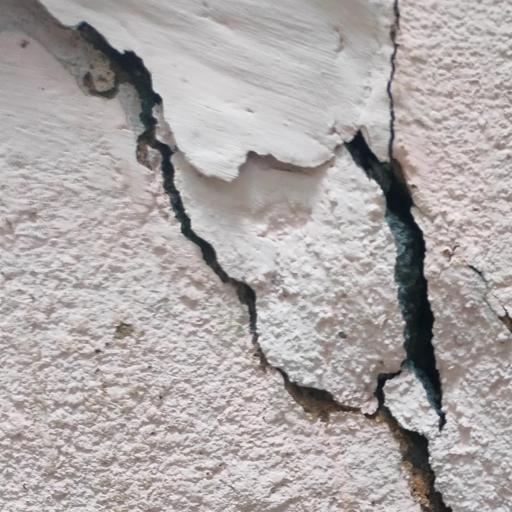major_crack: (58, 3, 484, 512)
